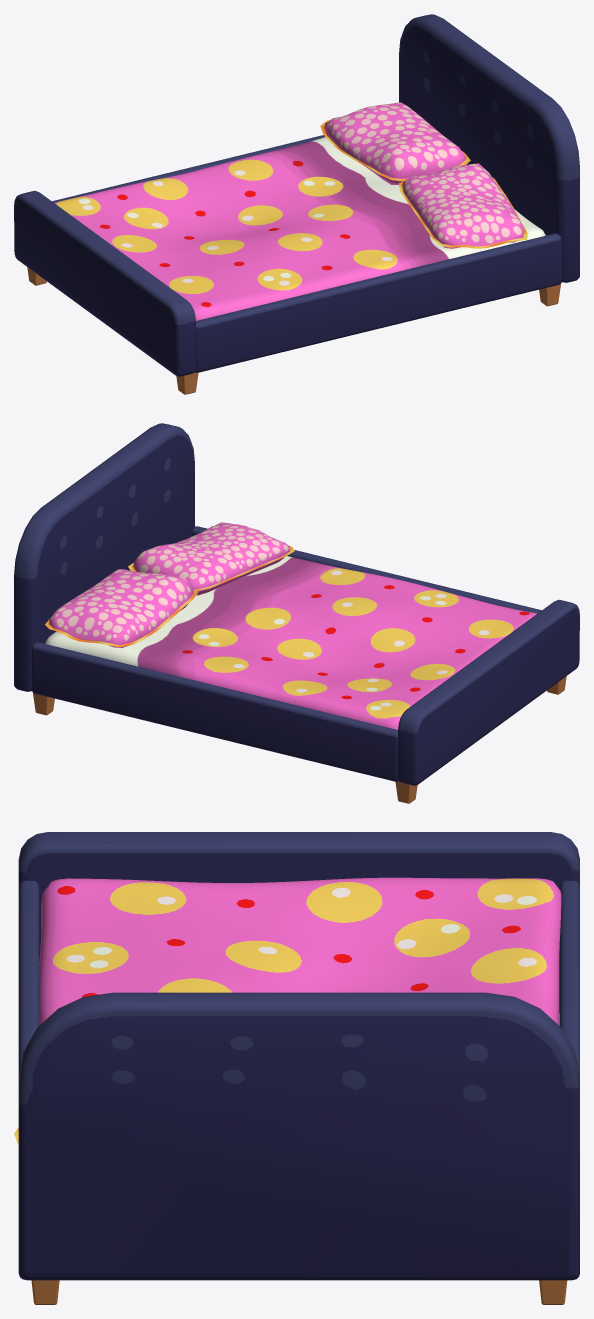
Rendered from bed2.fbx.
3 views of the same model, one above another, from view 1: azimuth 30°, elevation 25°; view 2: azimuth 150°, elevation 25°; view 3: azimuth 270°, elevation 25° (orthographic). The views are drawn at different scales.
Visible parts, largest first — view 1: Bed; view 2: Bed; view 3: Bed.
Boxes of the visible parts, left/top/right/bottom form: Bed: left=14, top=14, right=579, bottom=394; Bed: left=14, top=423, right=579, bottom=803; Bed: left=14, top=832, right=579, bottom=1304.
Size of the model in its own units: 600 by 263 by 427.
Materials: 1 (1 with a texture image).
